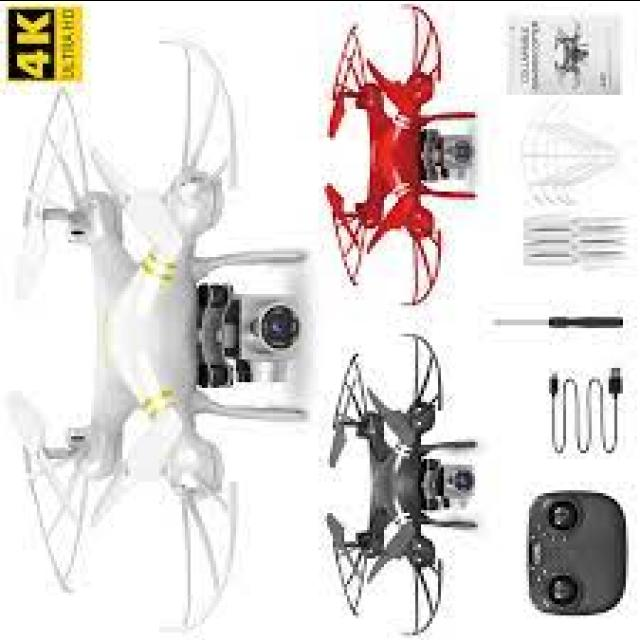drone: (29, 60, 310, 632), (310, 1, 490, 309), (306, 333, 492, 630)
